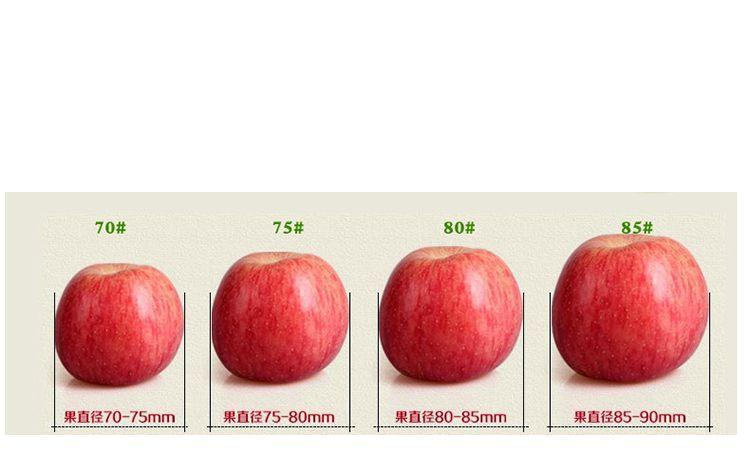apple: (551, 231, 707, 383), (379, 245, 521, 384), (210, 249, 348, 383), (54, 262, 182, 387)
